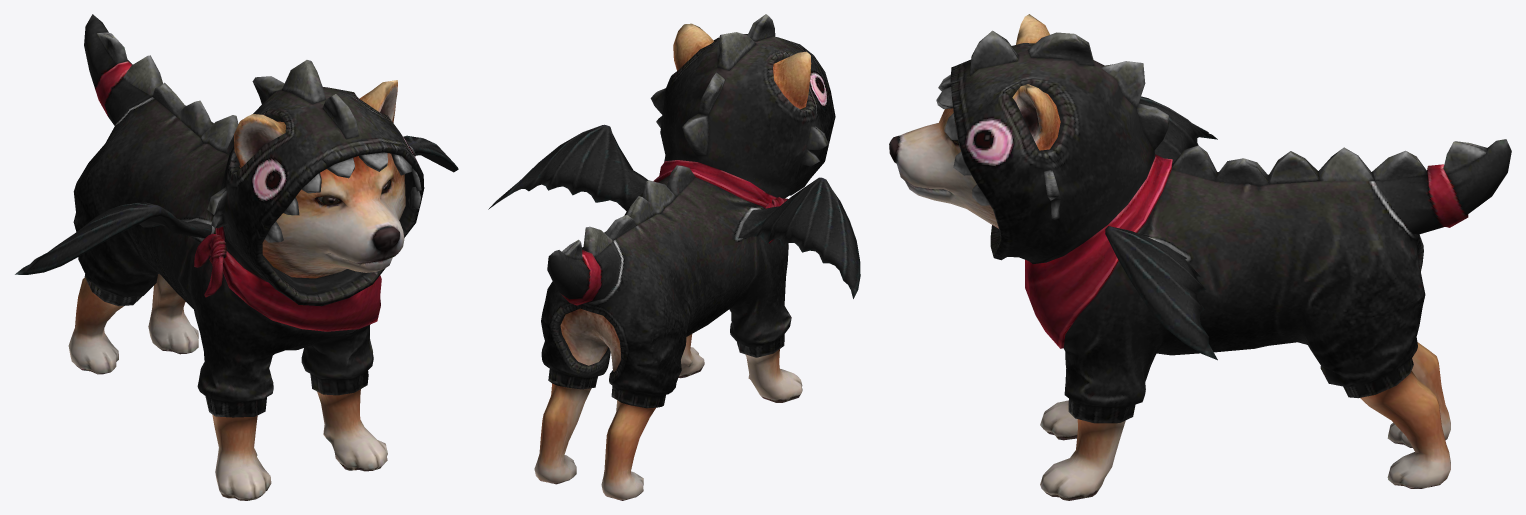
The model's file is shiba.gltf.
The picture shows the model from 3 angles, left to right: view 1: azimuth 30°, elevation 25°; view 2: azimuth 150°, elevation 25°; view 3: azimuth 270°, elevation 25°; orthographic projection. The views are drawn at different scales.
Visible parts, largest first — view 1: Object_2; view 2: Object_2; view 3: Object_2.
Boxes of the visible parts, box(x1,y1,x2,y2) form: Object_2: box(15, 14, 458, 500); Object_2: box(488, 14, 860, 500); Object_2: box(889, 14, 1511, 500).
Size of the model in its own units: 0.4418 by 0.4009 by 0.5265.
1 material, 1 textured.
